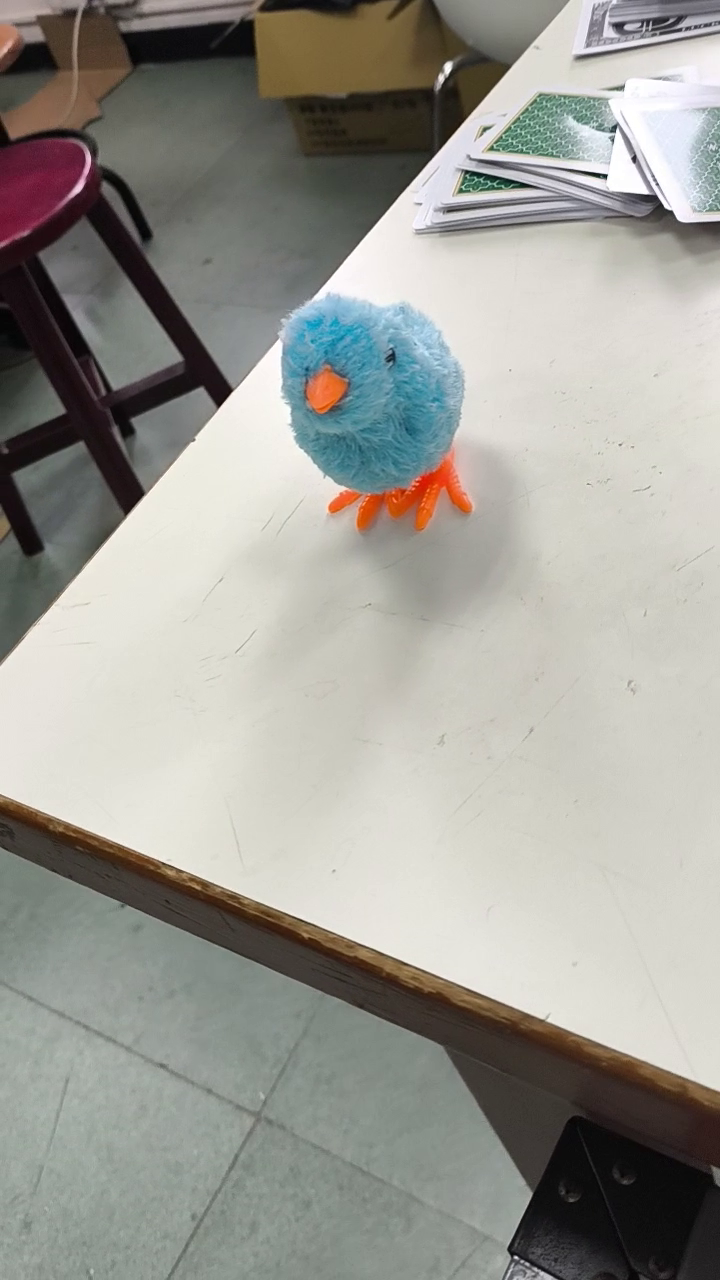blue chicken: (275, 289, 483, 545)
